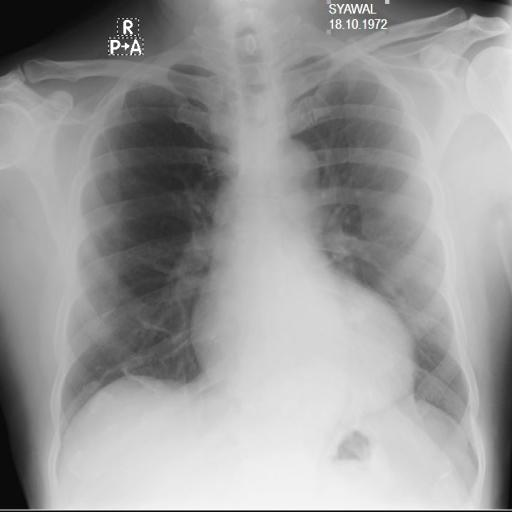kardiomegali: (184, 246, 422, 418)
